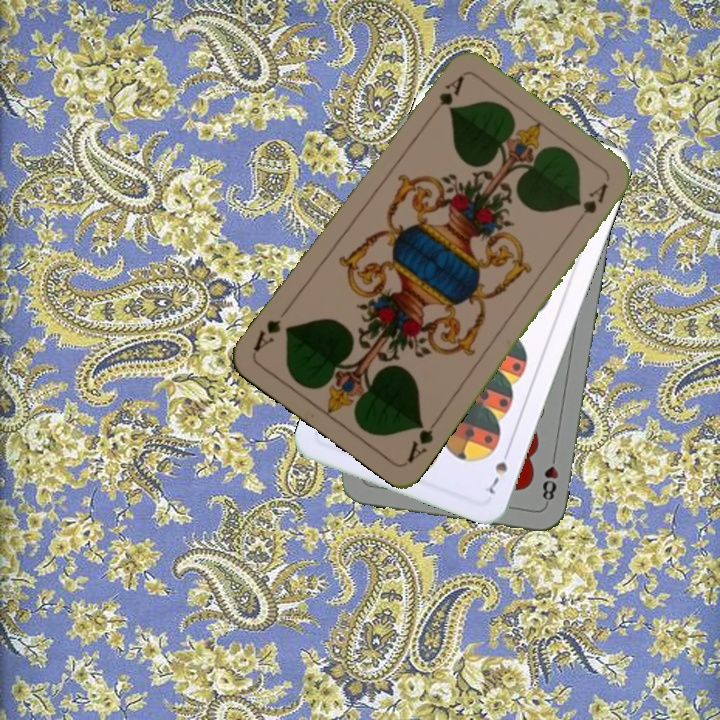GA: (424, 71, 467, 122), (402, 413, 443, 466)
H8: (538, 448, 561, 507)
S7: (482, 443, 513, 498)
